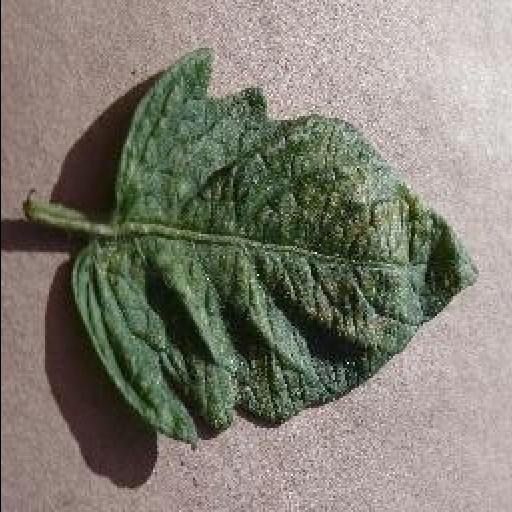disease_tomato: (72, 46, 476, 442)
